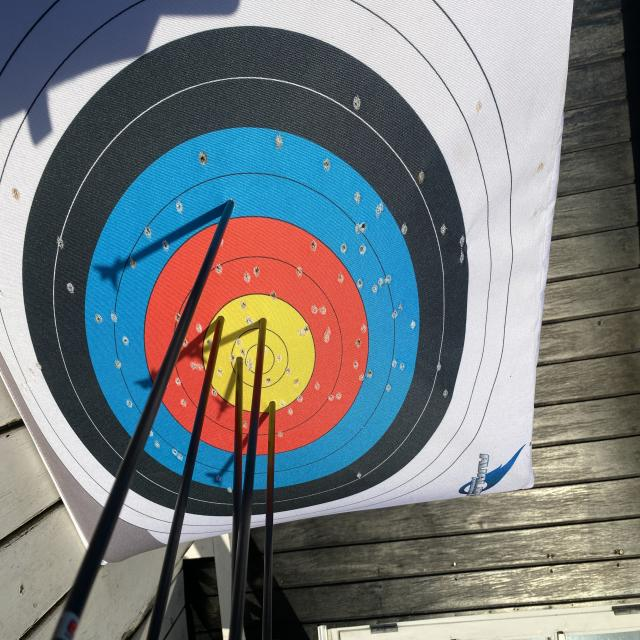Arrow_Blue: (208, 196, 258, 230)
Arrow_Yellow: (251, 304, 277, 338), (230, 348, 253, 374), (266, 393, 283, 421), (214, 310, 230, 338)
